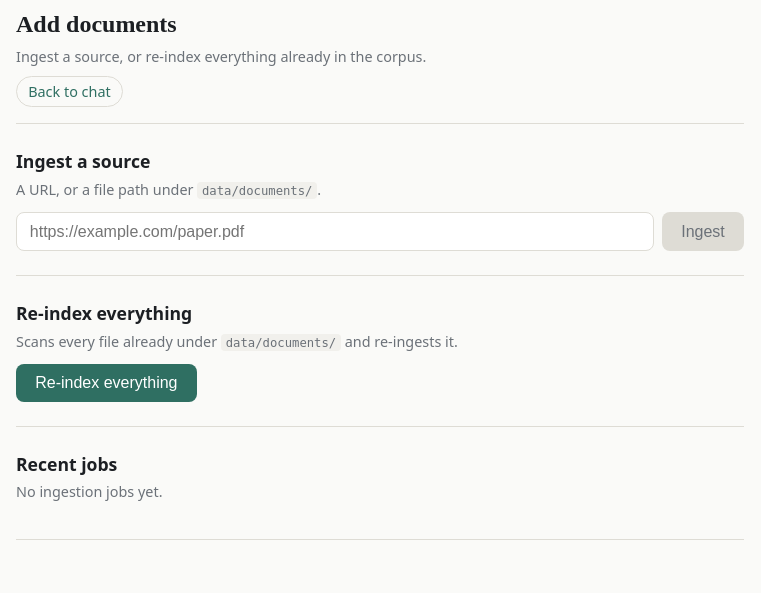
Test: IngestPage › shows a visible error when re-indexing's initial request fails
The width and height of the screenshot is (761, 593).
Click the button "Re-index everything" at (106, 383), box [16,364,197,402]
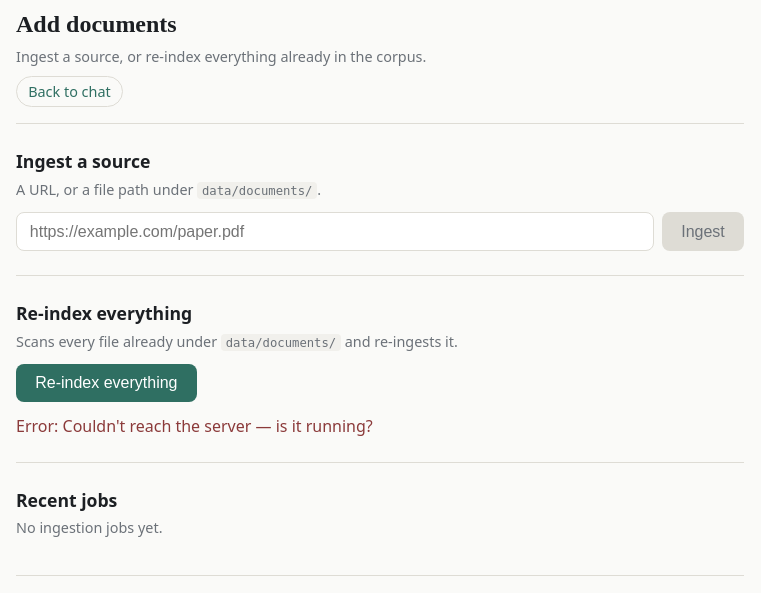
Expected: the text "Error: Couldn't reach the server — is it running?" is shown, [16,415,373,437]
